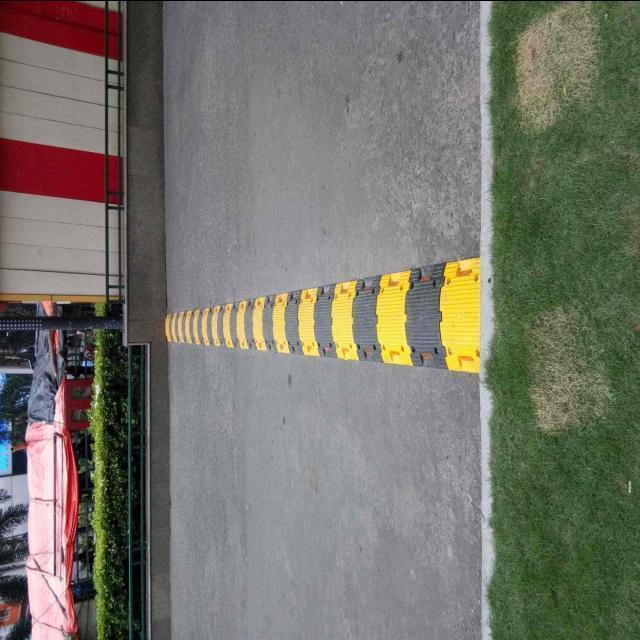speedbreaker: (155, 236, 501, 391)
